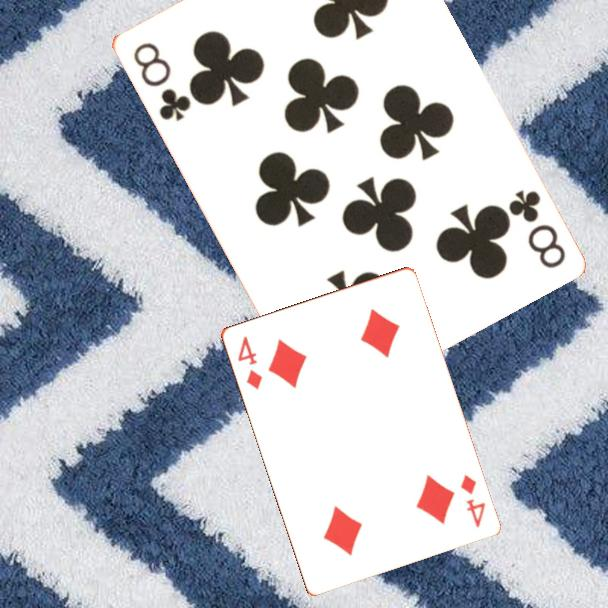c08: (129, 38, 194, 125), (504, 186, 568, 272)
d04: (233, 332, 265, 392), (457, 471, 488, 530)
